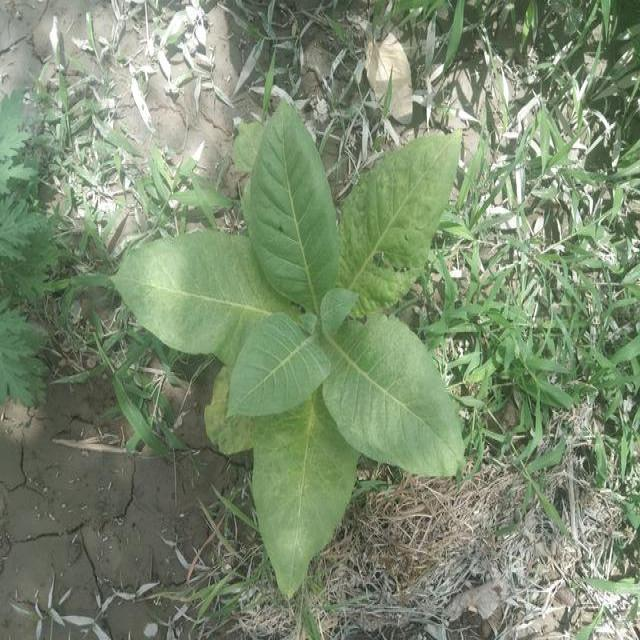crop: (130, 109, 460, 576)
